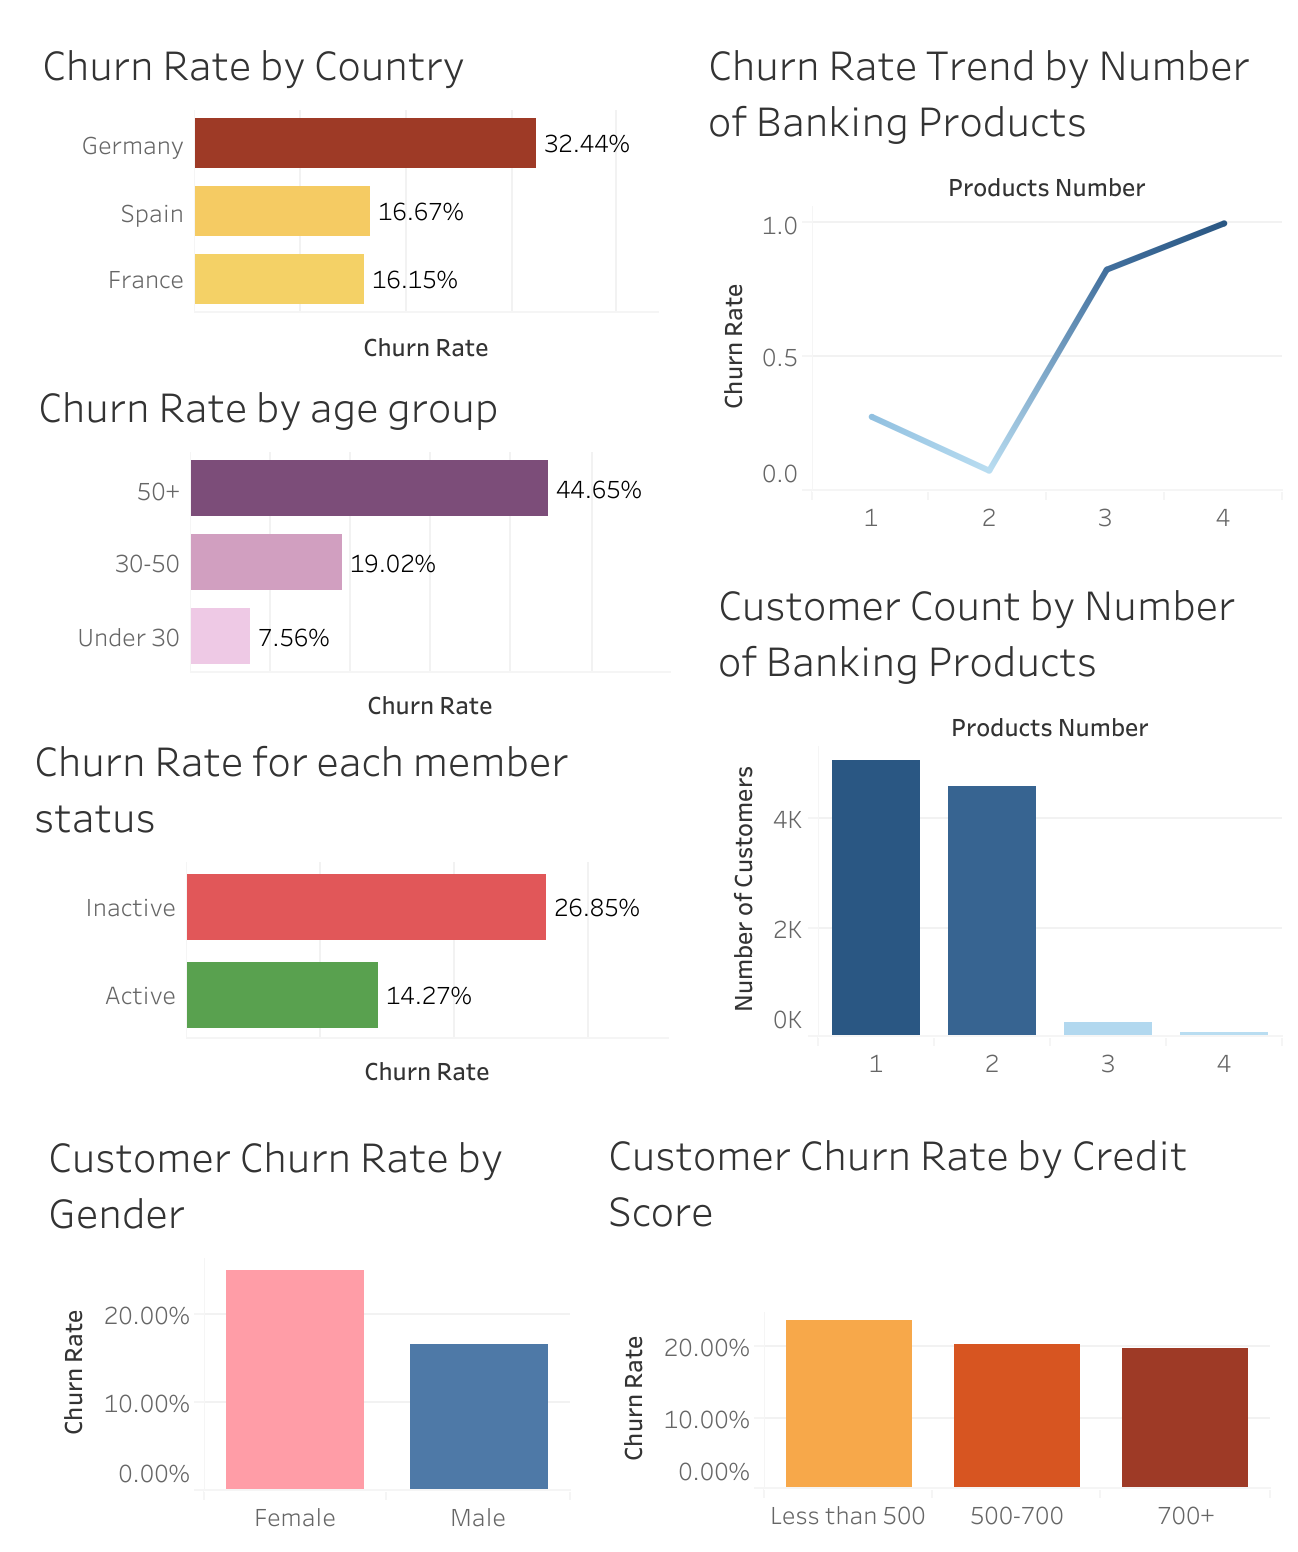

The page's visual inventory and layout, read from the dashboard file:
{"tool":"tableau","page":{"name":"Dashboard 1","canvas":[650,860],"ordinal":0},"visuals":[{"type":"worksheet","title":"Sheet 1","mark":"Automatic","rows":["country"],"cols":["churn"],"box":[17,13,312,188]},{"type":"worksheet","title":"Sheet 4","mark":"Line","rows":["churn"],"cols":["products_number"],"box":[350,13,291,283]},{"type":"worksheet","title":"Sheet 2","mark":"Automatic","rows":["Calculation_2697171236589569"],"cols":["churn"],"box":[15,202,320,198]},{"type":"worksheet","title":"Sheet 5","mark":"Automatic","rows":["customer_id"],"cols":["products_number"],"box":[355,312,286,286]},{"type":"worksheet","title":"Sheet 3","mark":"Automatic","rows":["active_member"],"cols":["churn"],"box":[13,399,321,203]},{"type":"worksheet","title":"Sheet 7","mark":"Bar","rows":["churn"],"cols":["Calculation_2697171472449539"],"box":[345,616,290,232]},{"type":"worksheet","title":"Sheet 6","mark":"Automatic","rows":["churn"],"cols":["gender"],"box":[20,618,306,231]}]}

Visuals, with their boxes on the page's 650x860 design canvas (x1, y1, x2, y2). These are canvas units, not pixel positions in the 1298x1552 screenshot, which may show the page scaled, cropped or inside an application window:
"Sheet 1" worksheet: 17, 13, 329, 201
"Sheet 4" worksheet (Line marks): 350, 13, 641, 296
"Sheet 2" worksheet: 15, 202, 335, 400
"Sheet 5" worksheet: 355, 312, 641, 598
"Sheet 3" worksheet: 13, 399, 334, 602
"Sheet 7" worksheet (Bar marks): 345, 616, 635, 848
"Sheet 6" worksheet: 20, 618, 326, 849
